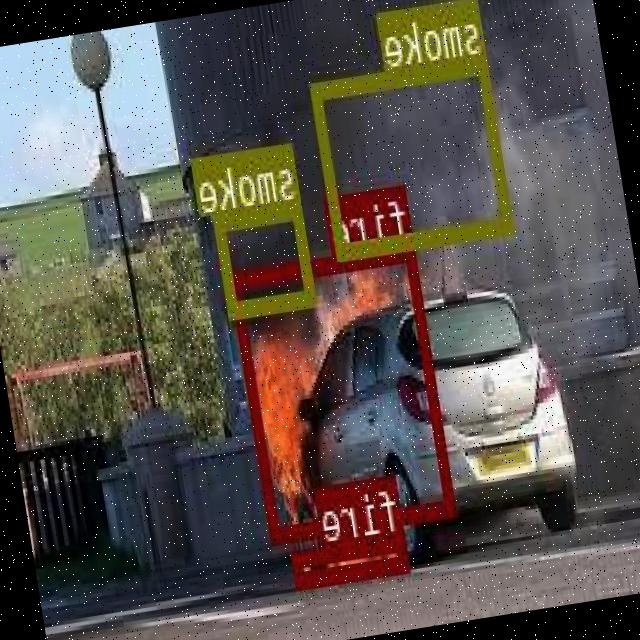fire: (232, 241, 458, 541), (292, 530, 412, 587)
smoke: (311, 53, 514, 256), (216, 200, 318, 314)
